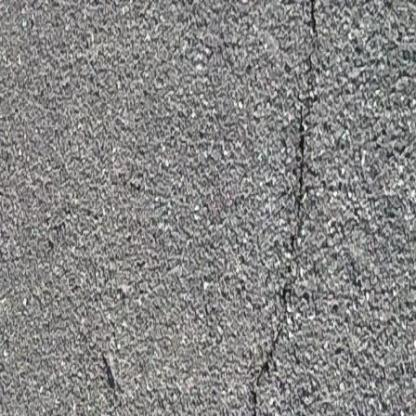Cracks: (235, 0, 341, 416)
